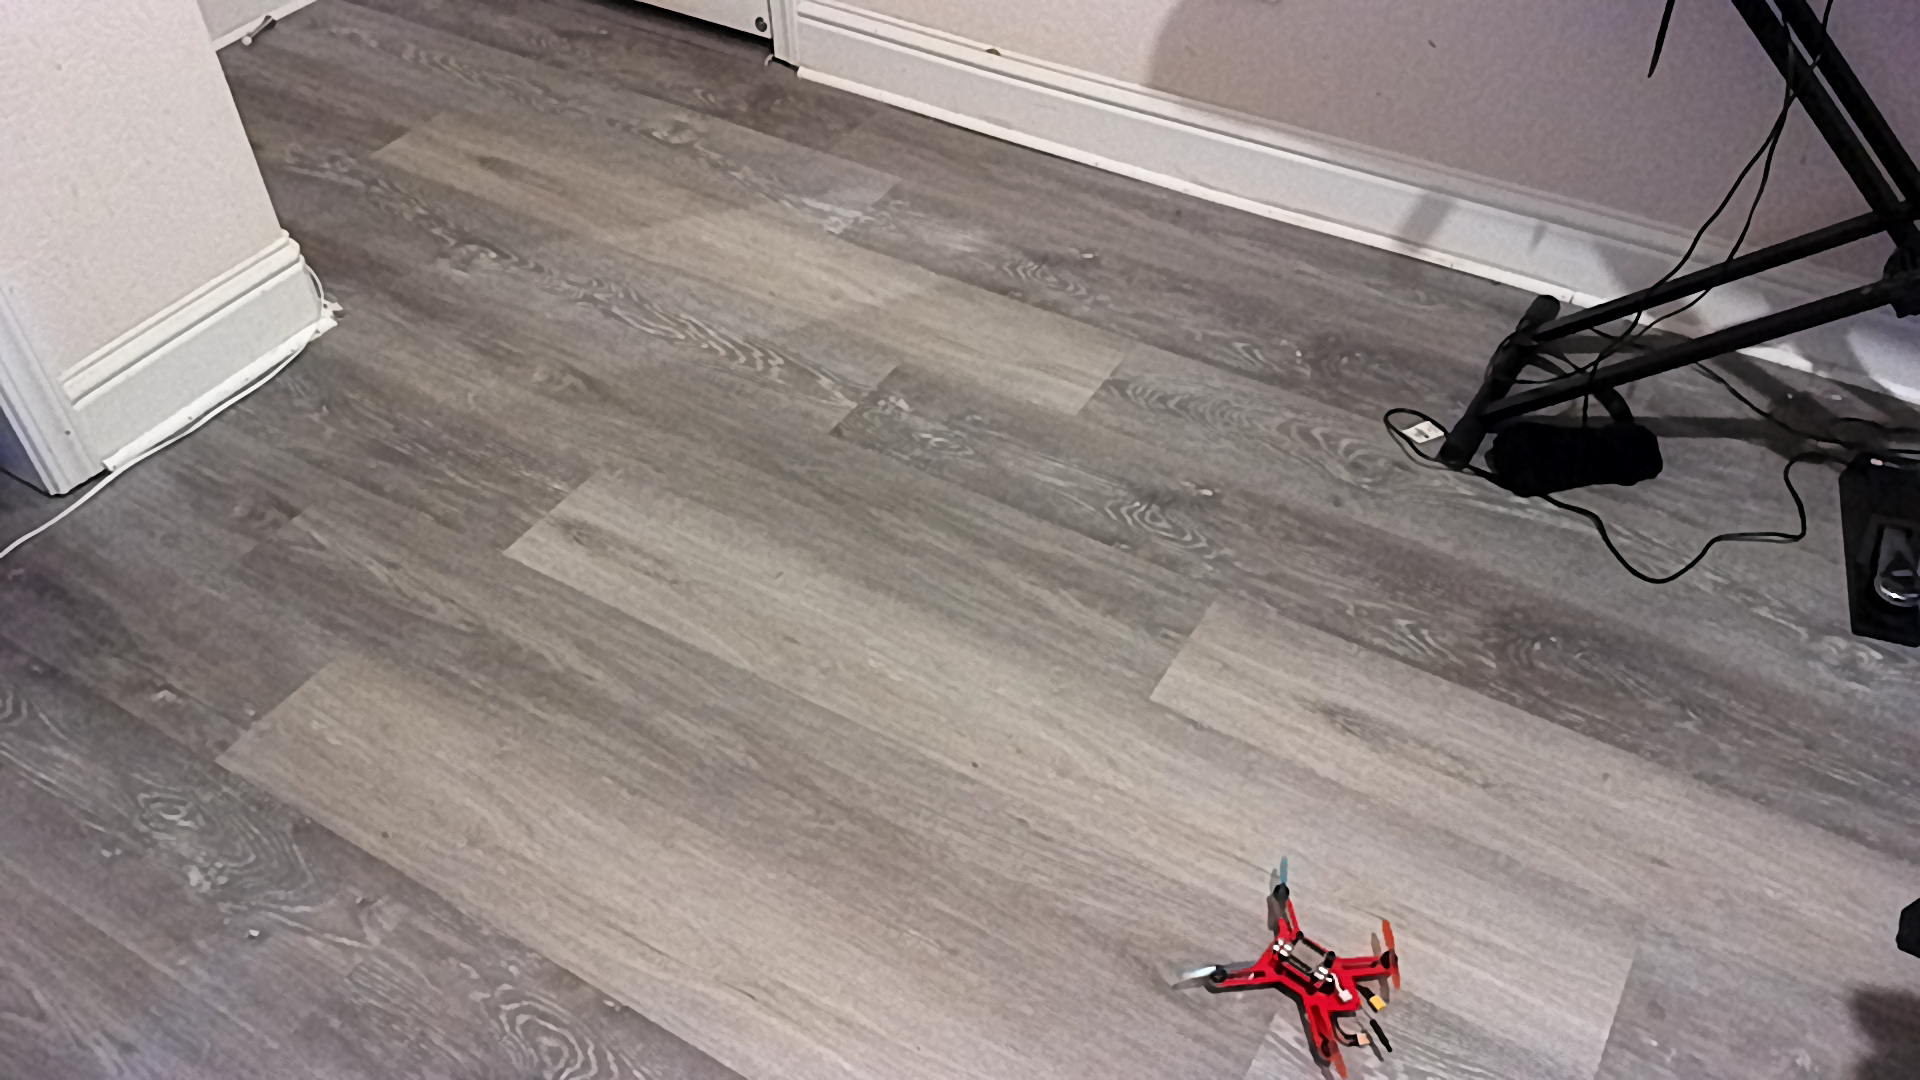drone: (1146, 853, 1457, 1076)
